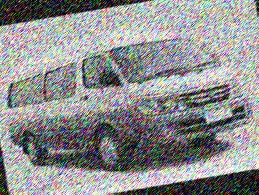van: (0, 7, 259, 183)
